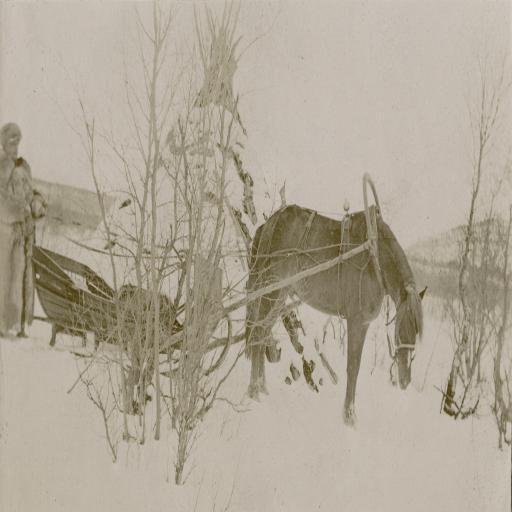horse: (243, 201, 428, 429)
